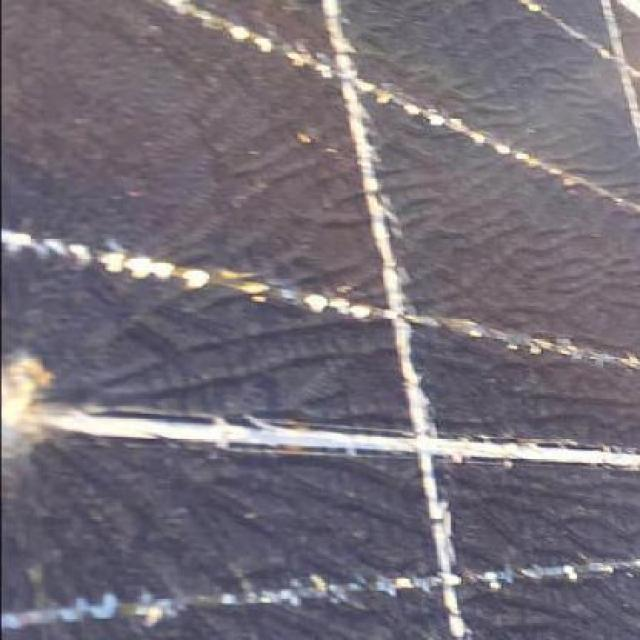cracked: (3, 48, 640, 636)
